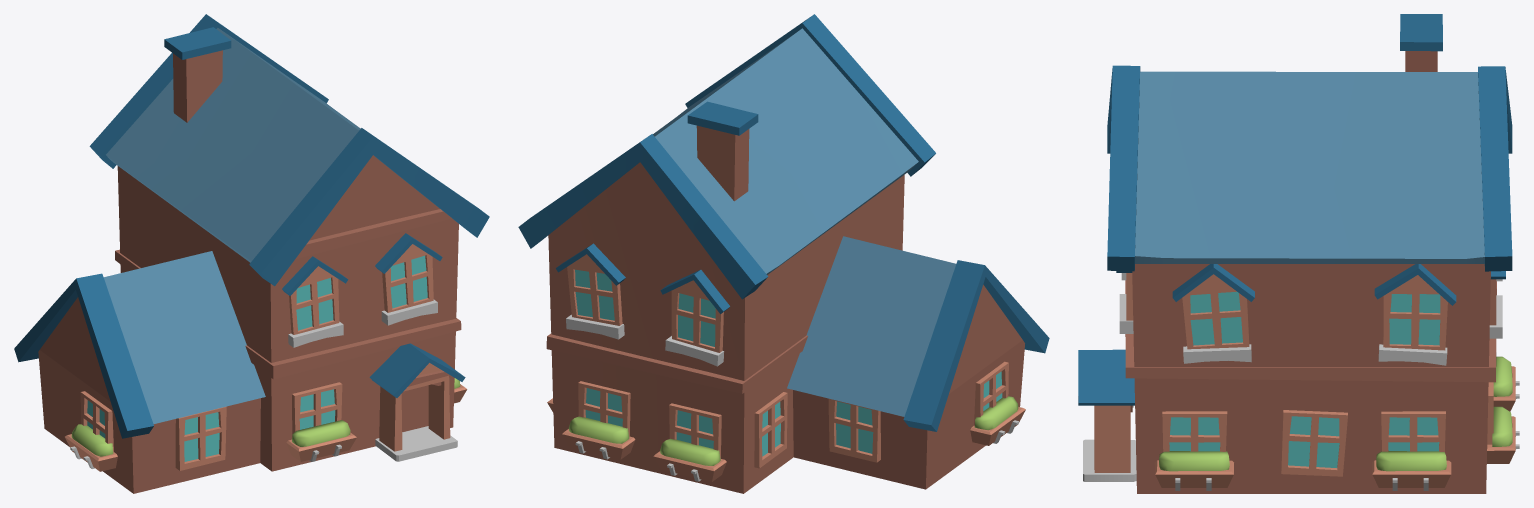
Rendered from House_v2.fbx.
3 renders of one model, left to right at view 1: azimuth 30°, elevation 25°; view 2: azimuth 150°, elevation 25°; view 3: azimuth 270°, elevation 25°, orthographic. The views are drawn at different scales.
Visible parts, largest first — view 1: Wall_6, Roof_v2, Roof_v2_2, Roof_v1_5, Wall_7, Roof_v1_7, Wall, Wall_2, Wall_8, Wood_10, Wood_16, Roof_v1_6 (+16 smaller); view 2: Wall_6, Roof_v2, Roof_v2_2, Roof_v1_5, Wall_7, Roof_v1_7, Wall, Wall_2, Wall_8, Wood_12, Wood_13, Wood_14 (+16 smaller); view 3: Roof_v2, Wall_6, Roof_v1_5, Wall_2, Wood_19, Roof_v1_6, Wood_18, Wood_20, Wood_10, Wall, Wood_7, Wood_4 (+14 smaller).
Part boxes in pixels (x1,y1,x2,y2): Wall_6: [117, 155, 458, 471]; Roof_v2: [106, 28, 360, 262]; Roof_v2_2: [103, 251, 265, 423]; Roof_v1_5: [89, 14, 489, 286]; Wall_7: [38, 350, 260, 493]; Roof_v1_7: [14, 273, 153, 438]; Wall: [164, 27, 231, 122]; Wall_2: [115, 249, 461, 379]; Wall_8: [40, 297, 110, 401]; Wood_10: [379, 363, 450, 451]; Wood_16: [175, 406, 226, 470]; Roof_v1_6: [369, 343, 465, 397]; Wall_6: [548, 162, 904, 493]; Roof_v2: [653, 28, 918, 274]; Roof_v2_2: [787, 236, 956, 416]; Roof_v1_5: [518, 14, 935, 299]; Wall_7: [793, 340, 1024, 489]; Roof_v1_7: [903, 260, 1049, 431]; Wall: [687, 101, 758, 201]; Wall_2: [546, 333, 807, 393]; Wall_8: [949, 284, 1022, 393]; Wood_12: [828, 398, 880, 462]; Wood_13: [754, 392, 787, 468]; Wood_14: [669, 403, 721, 458]; Roof_v2: [1135, 71, 1484, 263]; Wall_6: [1132, 264, 1490, 493]; Roof_v1_5: [1107, 65, 1512, 271]; Wall_2: [1125, 280, 1496, 382]; Wood_19: [1281, 410, 1347, 476]; Roof_v1_6: [1078, 349, 1134, 405]; Wood_18: [1381, 411, 1445, 451]; Wood_20: [1162, 411, 1227, 451]; Wood_10: [1094, 405, 1130, 472]; Wall: [1400, 14, 1442, 71]; Wood_7: [1182, 274, 1249, 349]; Wood_4: [1383, 275, 1447, 350].
Bounding box in the file's own units: 777 × 690 × 710.
